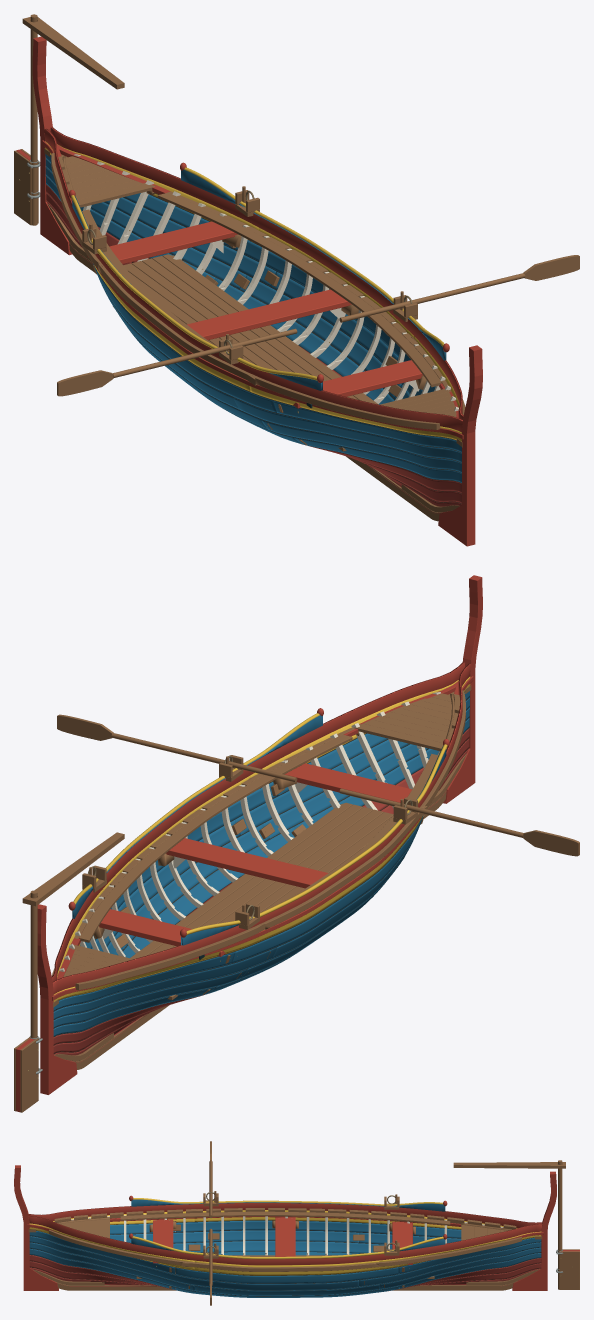
Rendered from pass.glb.
3 renders of one model, top to bottom at view 1: azimuth 30°, elevation 25°; view 2: azimuth 150°, elevation 25°; view 3: azimuth 270°, elevation 25°, orthographic. The views are drawn at different scales.
Parts seen in each view (by area): view 1: washboards-171, washboards-74, catwalks-200, bow-post-5, thwarts-340, stern-post-6, thwarts-327, planking-52, planking-57, thwarts-353, planking-58, planking-38 (+35 smaller); view 2: washboards-171, washboards-74, catwalks-200, thwarts-340, stern-post-6, bow-post-5, planking-57, thwarts-353, planking-50, planking-128, floorboards-326, thwarts-327 (+38 smaller); view 3: washboards-171, washboards-74, planking-154, catwalks-103, planking-57, planking-37, bow-post-5, stern-post-6, planking-149, sheer-strake-168, planking-51, planking-147 (+47 smaller).
Boxes of the visible parts, box(x1,y1,x2,y2) form: washboards-171: box(50, 127, 463, 419); washboards-74: box(44, 128, 462, 432); catwalks-200: box(157, 192, 441, 387); bow-post-5: box(438, 345, 482, 546); thwarts-340: box(187, 289, 351, 340); stern-post-6: box(32, 36, 72, 255); thwarts-327: box(87, 221, 237, 264); planking-52: box(234, 398, 461, 462); planking-57: box(95, 268, 276, 412); thwarts-353: box(293, 360, 422, 408); planking-58: box(273, 400, 461, 452); planking-38: box(261, 419, 461, 472); washboards-171: box(51, 662, 464, 981); washboards-74: box(52, 663, 470, 994); catwalks-200: box(79, 734, 352, 942); thwarts-340: box(166, 838, 327, 888); stern-post-6: box(37, 904, 77, 1094); bow-post-5: box(443, 575, 482, 803); planking-57: box(232, 818, 421, 963); thwarts-353: box(284, 763, 411, 802); planking-50: box(53, 947, 277, 1019); planking-128: box(123, 827, 295, 958); floorboards-326: box(130, 802, 352, 958); thwarts-327: box(99, 909, 225, 956); washboards-171: box(28, 1215, 542, 1265); washboards-74: box(28, 1203, 542, 1227); planking-154: box(175, 1267, 398, 1283); catwalks-103: box(120, 1211, 450, 1225); planking-57: box(175, 1220, 392, 1233); planking-37: box(194, 1241, 379, 1253); bow-post-5: box(14, 1165, 58, 1290); stern-post-6: box(512, 1171, 556, 1290); planking-149: box(29, 1236, 213, 1287); sheer-strake-168: box(194, 1260, 379, 1275); planking-51: box(213, 1230, 358, 1242); planking-147: box(359, 1242, 541, 1286).
Size of the model in its own units: 4.36 by 1.67 by 6.67.
